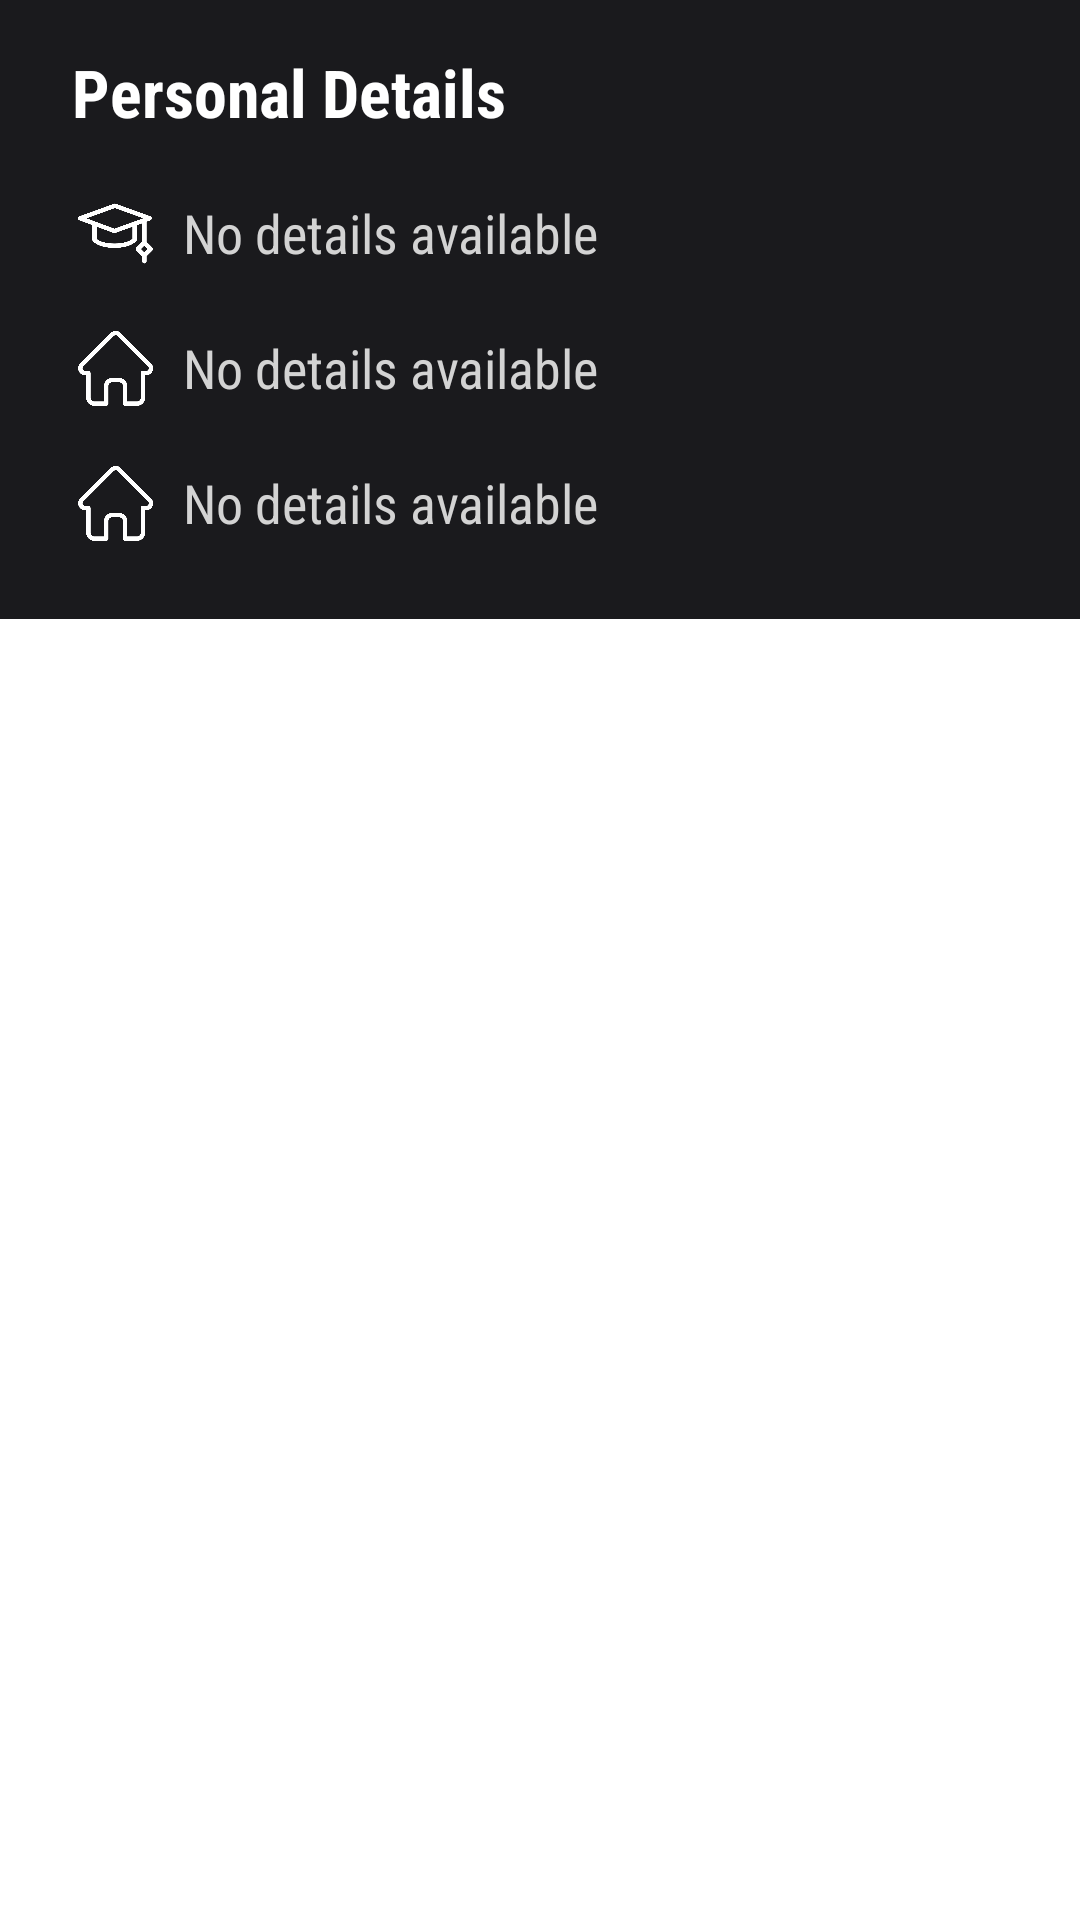

Where to tap for icons on this 1080x1920 app screen, as (x=x, y=y):
education: (x=115, y=233)
home: (x=115, y=368), (x=115, y=503)
